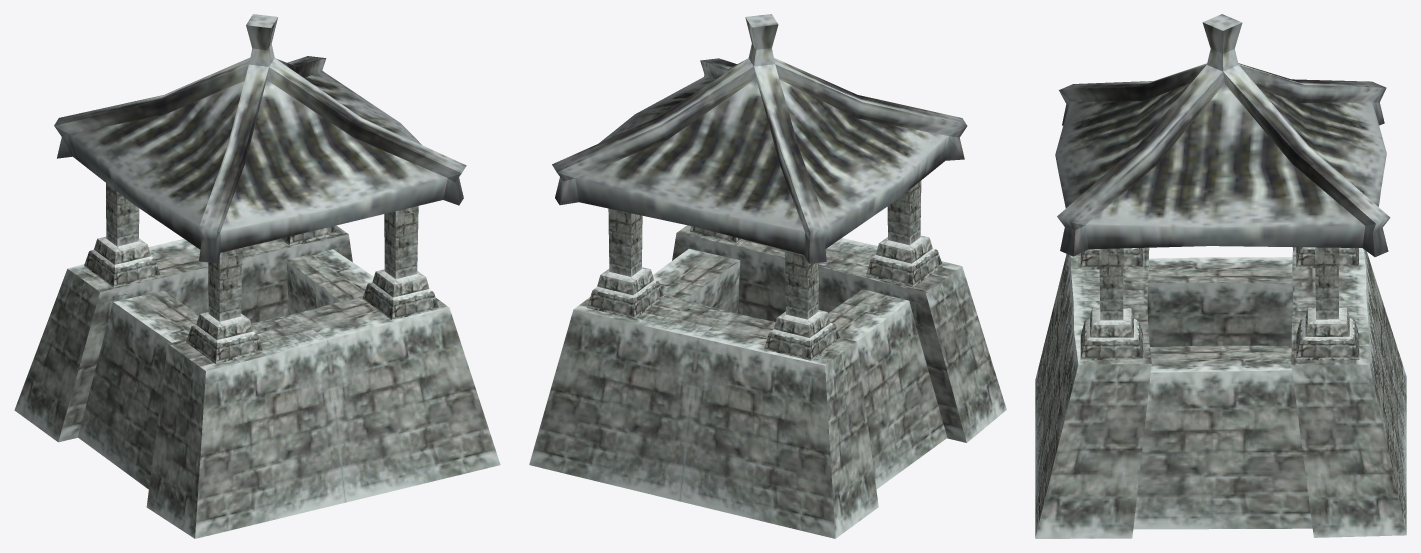
Rendered from S_Build_Snowland095.FBX.
3 renders of one model, left to right at view 1: azimuth 30°, elevation 25°; view 2: azimuth 150°, elevation 25°; view 3: azimuth 270°, elevation 25°, orthographic. The views are drawn at different scales.
Visible parts, largest first — view 1: S_Build_Snowland095; view 2: S_Build_Snowland095; view 3: S_Build_Snowland095.
Part boxes in pixels (left/top/right/bottom): S_Build_Snowland095: left=14, top=14, right=500, bottom=538; S_Build_Snowland095: left=529, top=14, right=1006, bottom=538; S_Build_Snowland095: left=1035, top=14, right=1406, bottom=538.
Size of the model in its own units: 859 by 843 by 1100.
